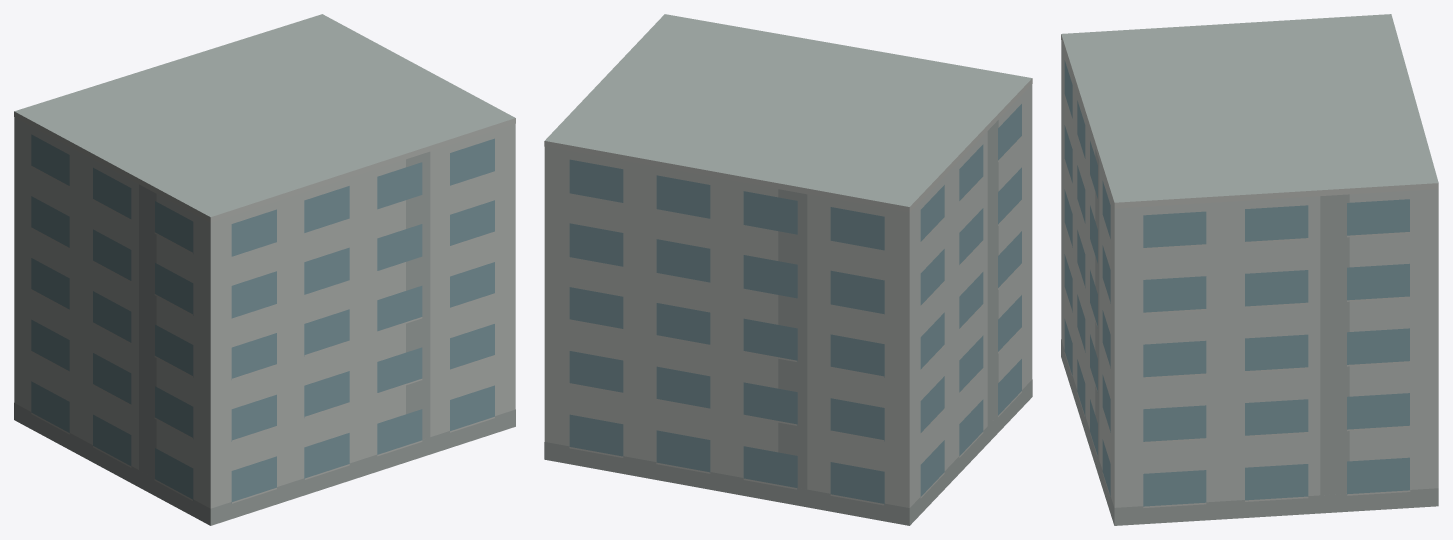
Rendered from survey-upis-32577286.glb.
3 views of the same model, side by side, from view 1: azimuth 30°, elevation 25°; view 2: azimuth 150°, elevation 25°; view 3: azimuth 270°, elevation 25° (orthographic). The views are drawn at different scales.
Parts seen in each view (by area): view 1: survey-upis-32577286.tmp; view 2: survey-upis-32577286.tmp; view 3: survey-upis-32577286.tmp.
Boxes of the visible parts, box(x1,y1,x2,y2) form: survey-upis-32577286.tmp: box(14, 14, 515, 525); survey-upis-32577286.tmp: box(544, 14, 1032, 525); survey-upis-32577286.tmp: box(1061, 14, 1438, 525).
Size of the model in its own units: 16.67 by 13.3 by 14.09.
